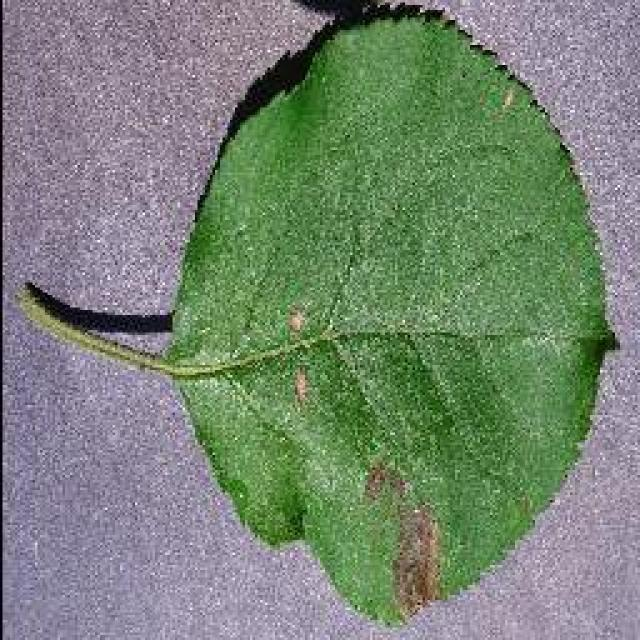apple black rot: (15, 0, 620, 628)
